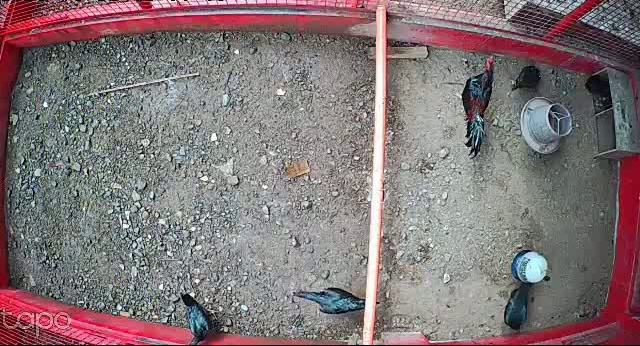Chicken: (289, 282, 383, 316), (176, 288, 222, 346), (502, 280, 534, 334), (507, 65, 542, 92)
Drinker: (511, 249, 548, 286)
Feeder: (519, 94, 573, 156)
Rooster: (454, 53, 497, 159)
